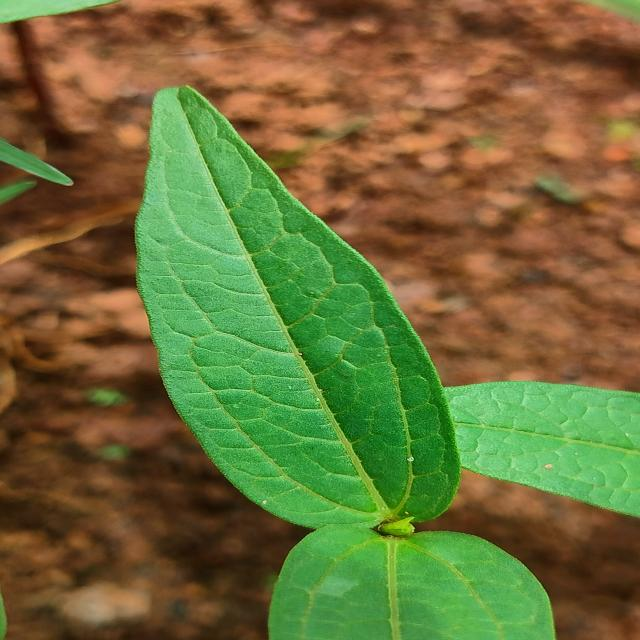Black gram_healthy: (128, 81, 465, 522), (264, 520, 558, 640), (429, 360, 640, 521)
